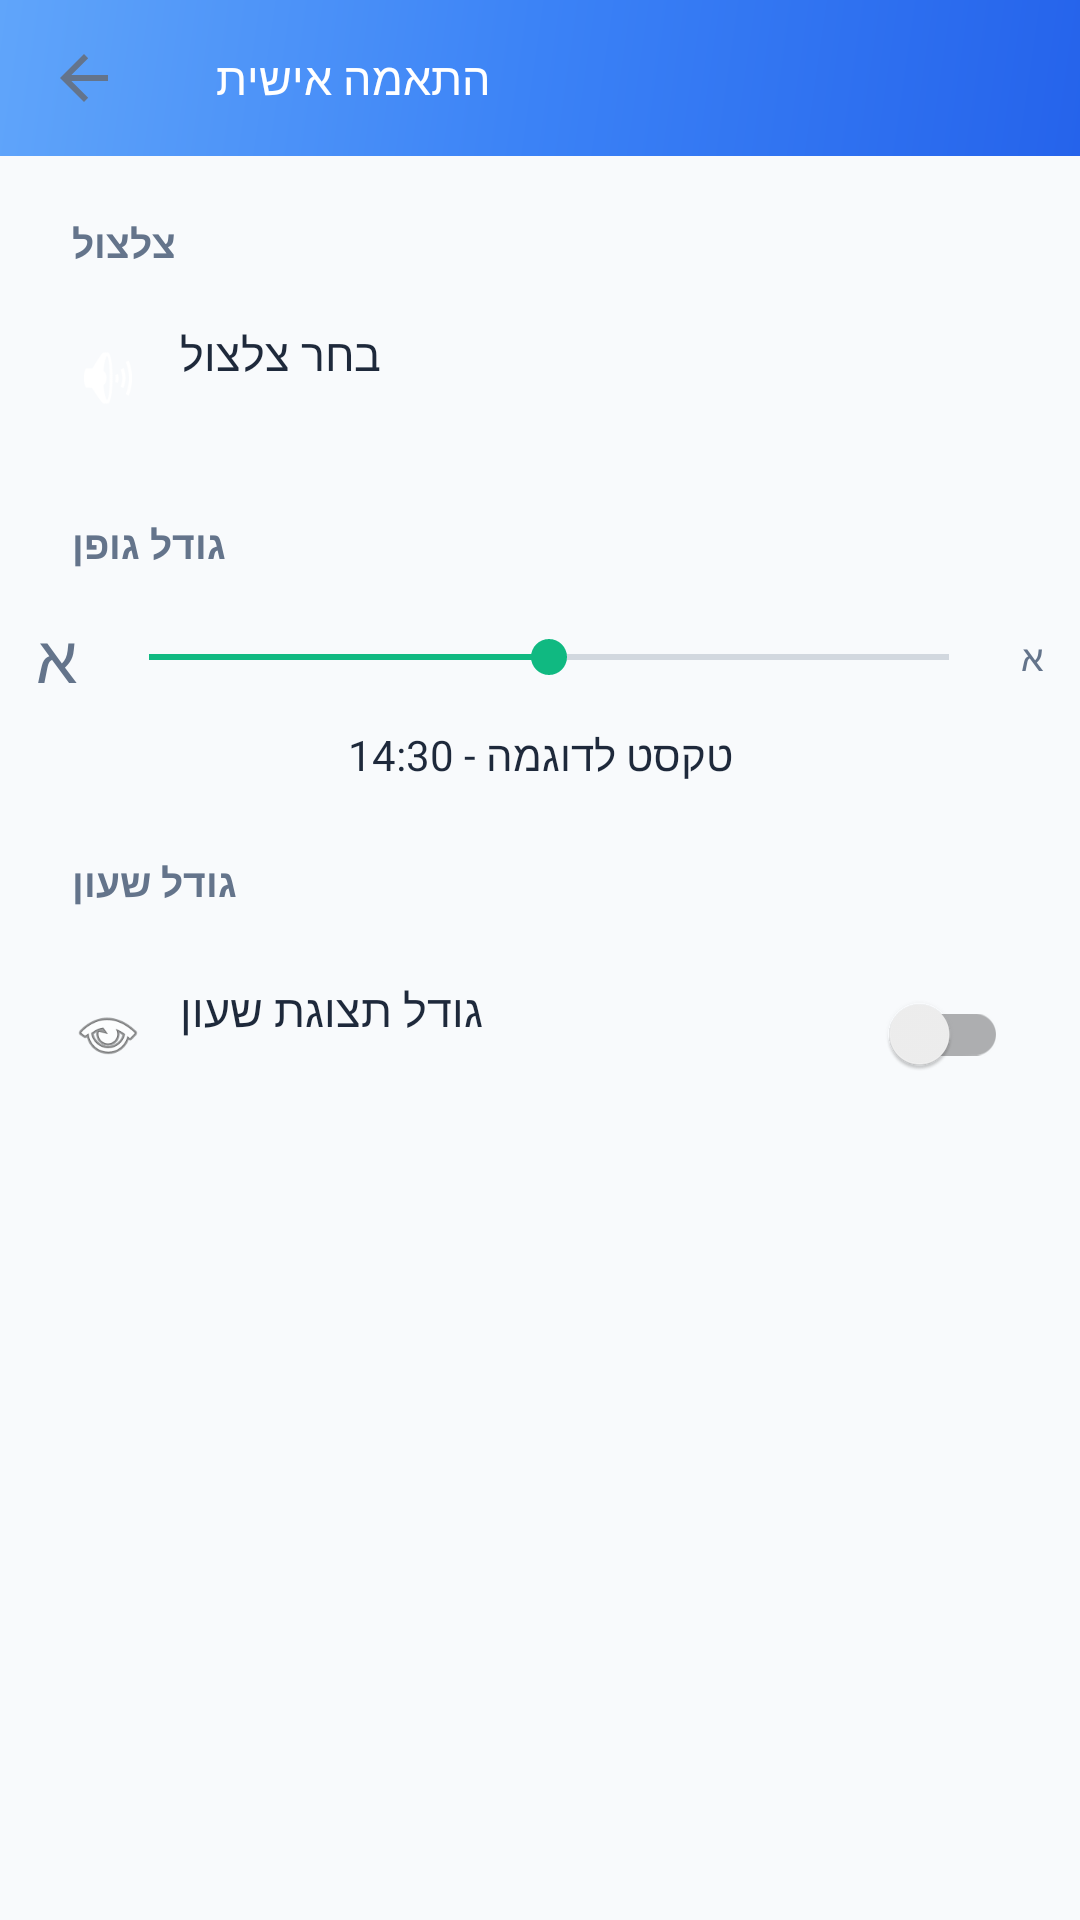

Named icons in this screenshot (1080x1920) and their bounding boxes, (x1, y1, x2, y2):
view: (79, 1017, 137, 1054)
